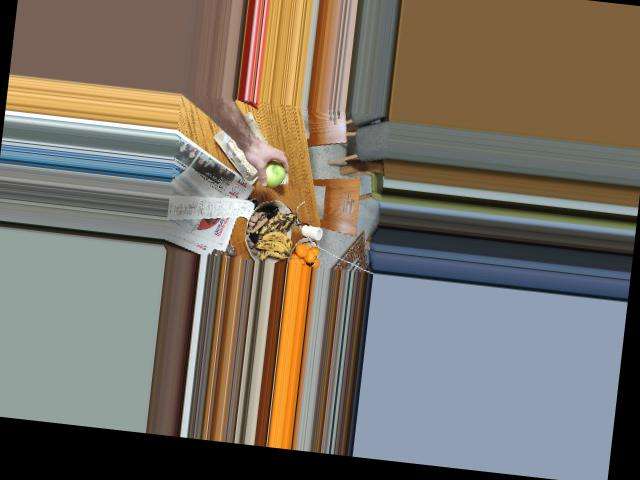apple: (258, 154, 290, 188)
